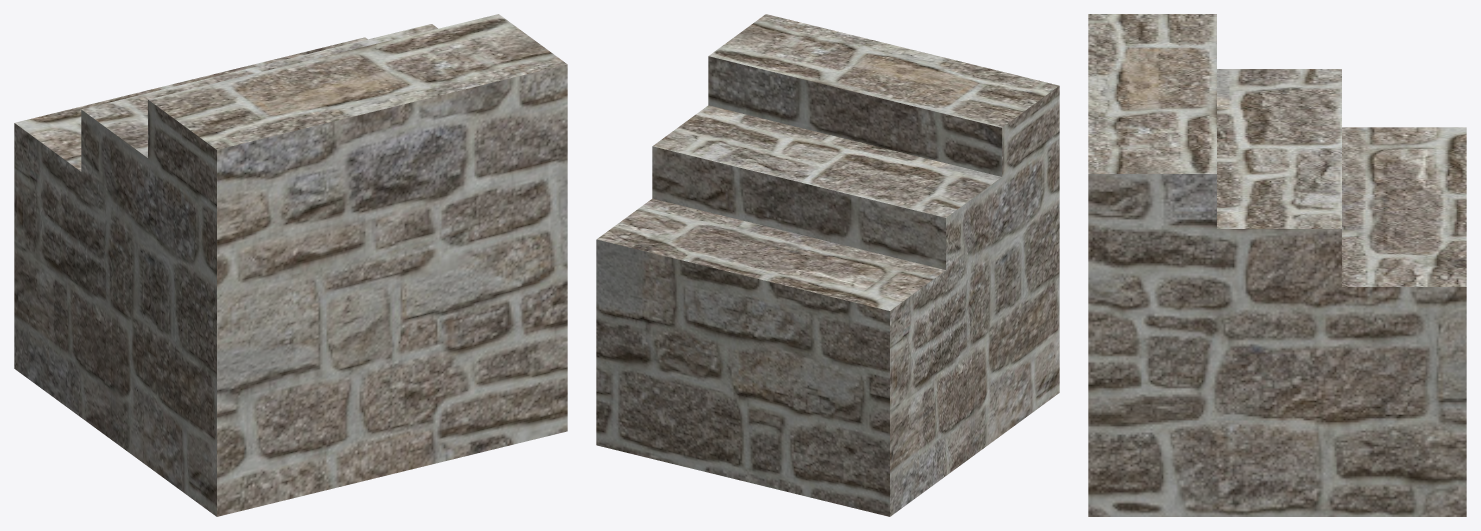
File: escalera02.obj
The picture shows the model from 3 angles, left to right: view 1: azimuth 30°, elevation 25°; view 2: azimuth 150°, elevation 25°; view 3: azimuth 270°, elevation 25°; orthographic projection. The views are drawn at different scales.
Size of the model in its own units: 1 by 1 by 1.
